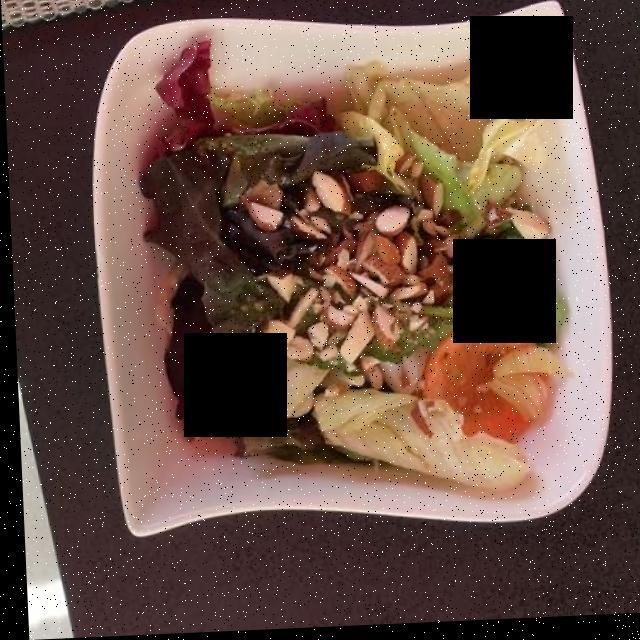almonds: (230, 183, 560, 398)
carrot: (417, 328, 534, 456)
salad: (133, 74, 566, 527)
